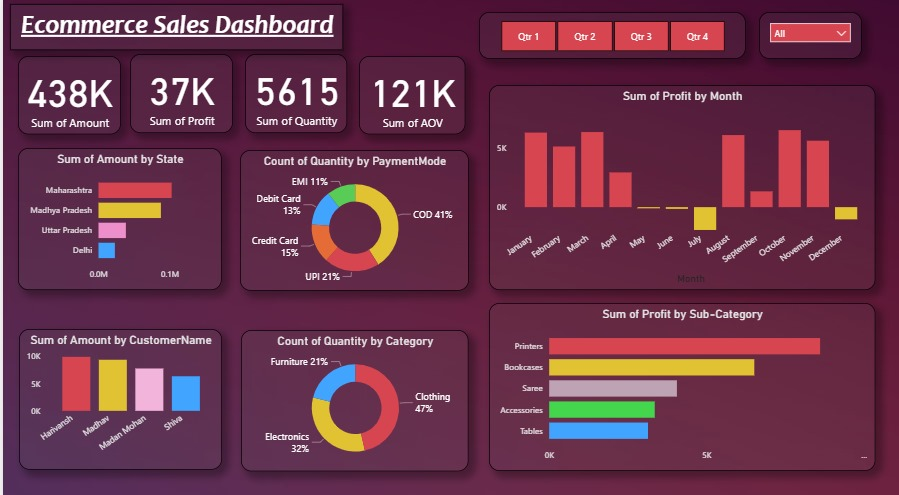

This screenshot's page, from the dashboard's own definition file:
{"tool":"powerbi","page":{"name":"Page 1","canvas":[1280,720],"ordinal":0},"visuals":[{"type":"textbox","box":[10,10,476,66],"z":0},{"type":"columnChart","fields":{"Category":["Orders.Order Date.Variation.Date Hierarchy.Month"],"Y":["Sum(Details.Profit)"]},"box":[695,125,551.7,293.3],"z":1000},{"type":"barChart","fields":{"Category":["Details.Sub-Category"],"Y":["Sum(Details.Profit)"]},"box":[695,436.7,551.7,240],"z":2000},{"type":"donutChart","fields":{"Y":["CountNonNull(Details.Quantity)"],"Category":["Details.PaymentMode"]},"box":[338,218,327,201],"z":3000},{"type":"donutChart","fields":{"Category":["Details.Category"],"Y":["CountNonNull(Details.Quantity)"]},"box":[340,475,325,201.7],"z":4000},{"type":"card","fields":{"Values":["Sum(Details.AOV)"]},"box":[509.1,83.6,151.8,111.8],"z":5000},{"type":"card","fields":{"Values":["Sum(Details.Amount)"]},"box":[20.9,83.6,147.3,111.8],"z":6000},{"type":"card","fields":{"Values":["Sum(Details.Profit)"]},"box":[181.8,81.8,147.3,112.7],"z":7000},{"type":"card","fields":{"Values":["Sum(Details.Quantity)"]},"box":[345.5,81.8,146.4,112.7],"z":8000},{"type":"barChart","fields":{"Category":["Orders.State"],"Y":["Sum(Details.Amount)"]},"box":[20.9,216.4,290.9,202.7],"z":9000},{"type":"columnChart","fields":{"Category":["Orders.CustomerName"],"Y":["Sum(Details.Amount)"]},"box":[22.7,474.5,290,200.9],"z":10000},{"type":"slicer","fields":{"Values":["Orders.Order Date.Variation.Date Hierarchy.Quarter"]},"box":[680,22,381.3,67.3],"z":12000},{"type":"slicer","fields":{"Values":["Orders.State"]},"box":[1080.7,22,146.7,67.3],"z":12001}]}

Visuals, with their boxes in screenshot pixels (x1, y1, x2, y2), scaled from the page's 1280x720 canvas onto the 899x495 screenshot:
textbox: <region>7, 7, 341, 52</region>
columnChart - Orders.Order Date.Variation.Date Hierarchy.Month x Sum(Details.Profit): <region>488, 86, 876, 288</region>
barChart - Details.Sub-Category x Sum(Details.Profit): <region>488, 300, 876, 465</region>
donutChart - CountNonNull(Details.Quantity) x Details.PaymentMode: <region>237, 150, 467, 288</region>
donutChart - Details.Category x CountNonNull(Details.Quantity): <region>239, 327, 467, 465</region>
card - Sum(Details.AOV): <region>358, 57, 464, 134</region>
card - Sum(Details.Amount): <region>15, 57, 118, 134</region>
card - Sum(Details.Profit): <region>128, 56, 231, 134</region>
card - Sum(Details.Quantity): <region>243, 56, 345, 134</region>
barChart - Orders.State x Sum(Details.Amount): <region>15, 149, 219, 288</region>
columnChart - Orders.CustomerName x Sum(Details.Amount): <region>16, 326, 220, 464</region>
slicer - Orders.Order Date.Variation.Date Hierarchy.Quarter: <region>478, 15, 745, 61</region>
slicer - Orders.State: <region>759, 15, 862, 61</region>
